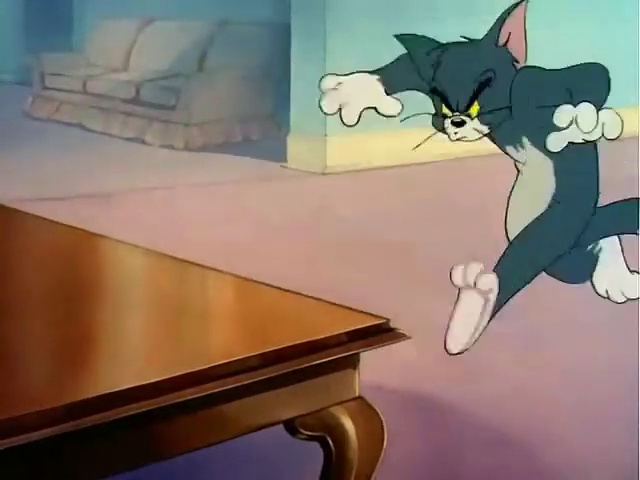tom: (312, 0, 638, 348), (316, 14, 635, 353)
